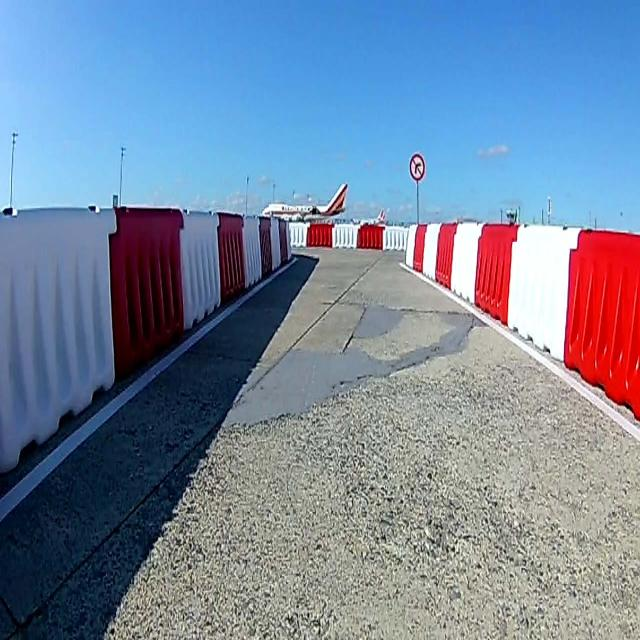sagadonulmez: (410, 154, 424, 180)
